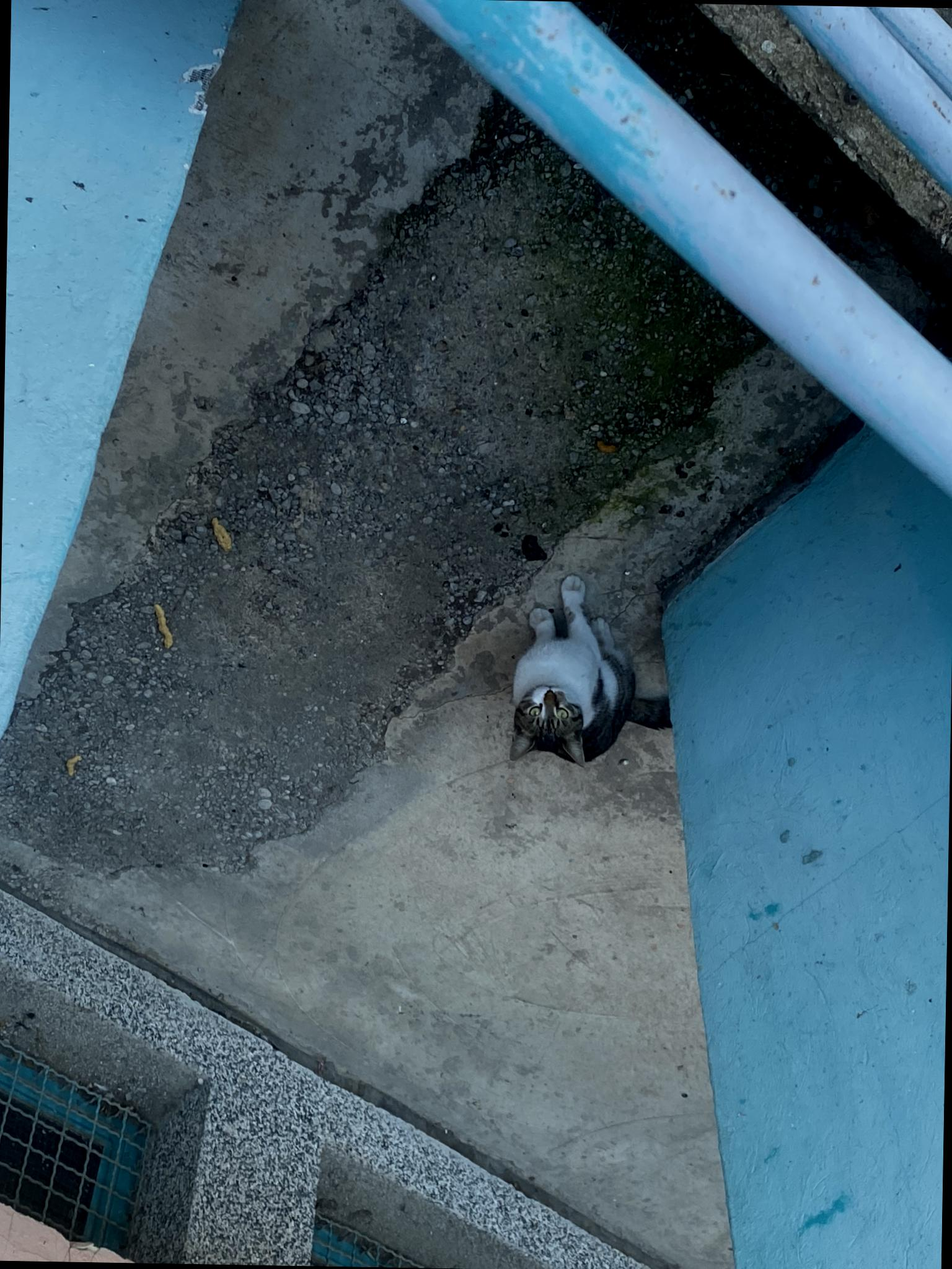macka: (509, 575, 676, 769)
